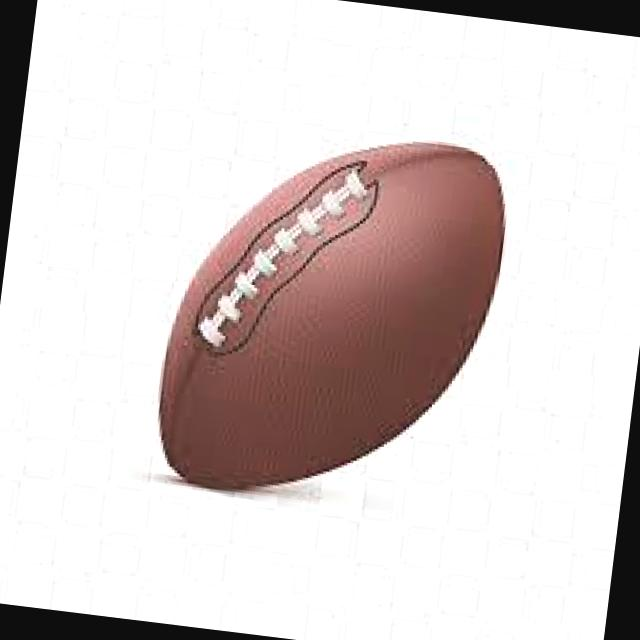ball: (117, 88, 520, 539)
